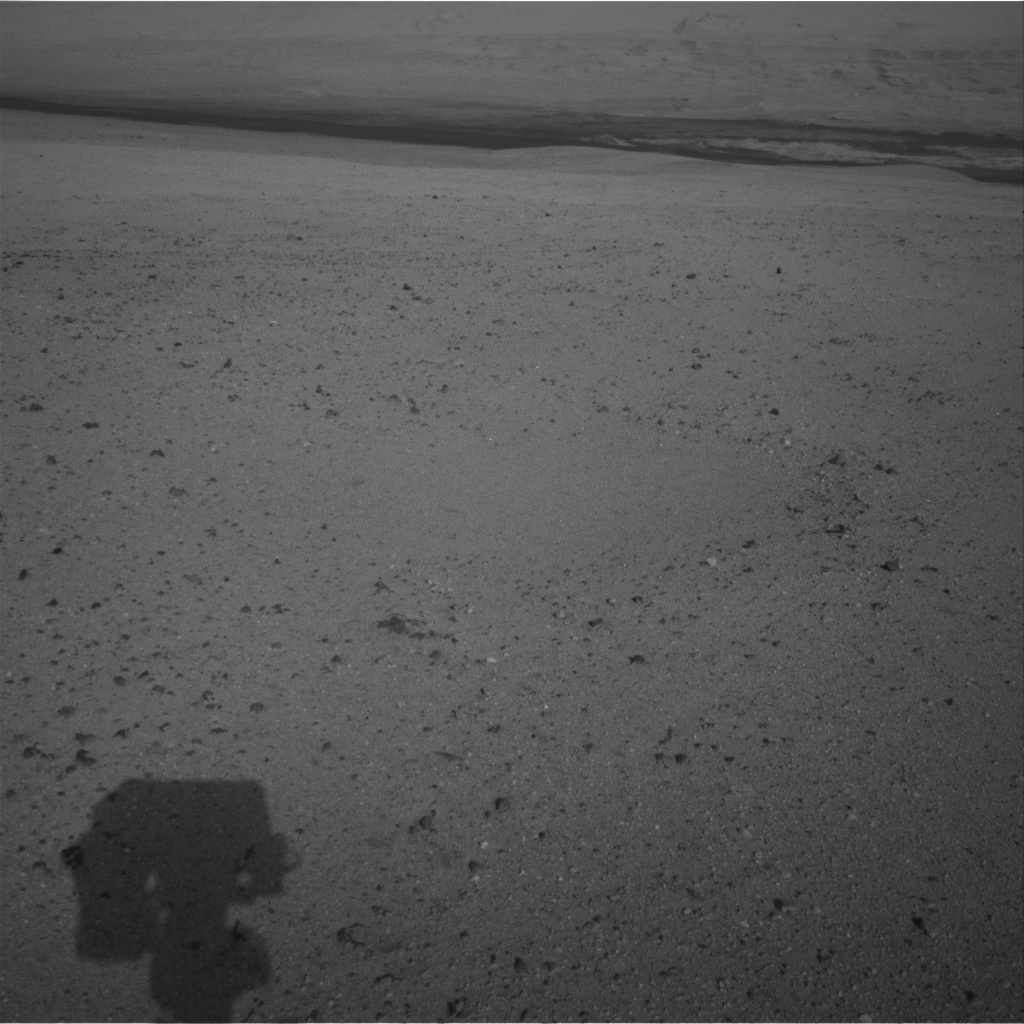soil: (4, 249, 1020, 1018)
